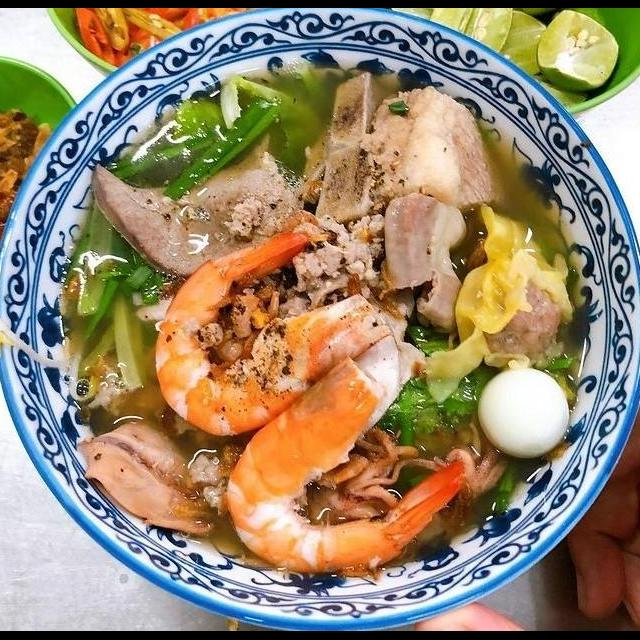gan: (79, 126, 308, 288)
thit bam: (214, 192, 390, 331)
thit heo: (378, 68, 520, 224)
tom: (216, 342, 478, 584), (148, 215, 394, 442)
trung: (472, 362, 574, 462)
